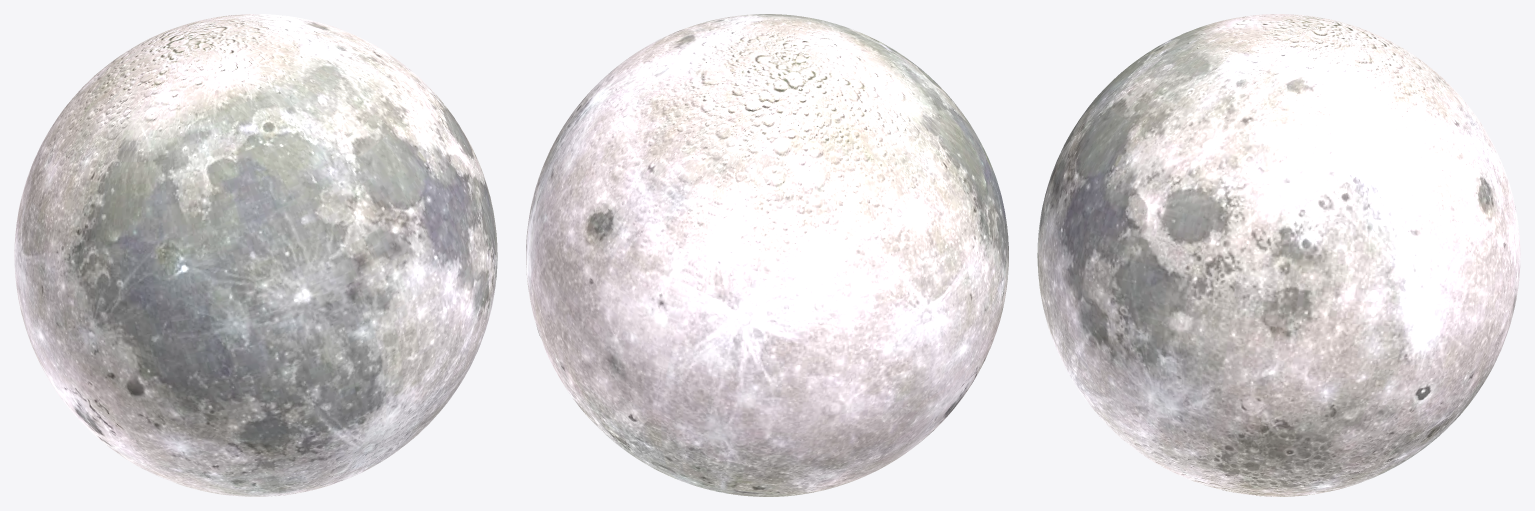
The model's file is moon-transformed.glb.
3 views of the same model, side by side, from view 1: azimuth 30°, elevation 25°; view 2: azimuth 150°, elevation 25°; view 3: azimuth 270°, elevation 25° (orthographic).
Parts seen in each view (by area): view 1: Object_3; view 2: Object_3; view 3: Object_3.
Part boxes in pixels (x1=…): Object_3: x1=14, y1=14, x2=497, y2=496; Object_3: x1=526, y1=14, x2=1008, y2=496; Object_3: x1=1037, y1=14, x2=1520, y2=496.
Bounding box in the file's own units: 0.8657 × 0.8658 × 0.866.
1 material, 1 textured.
